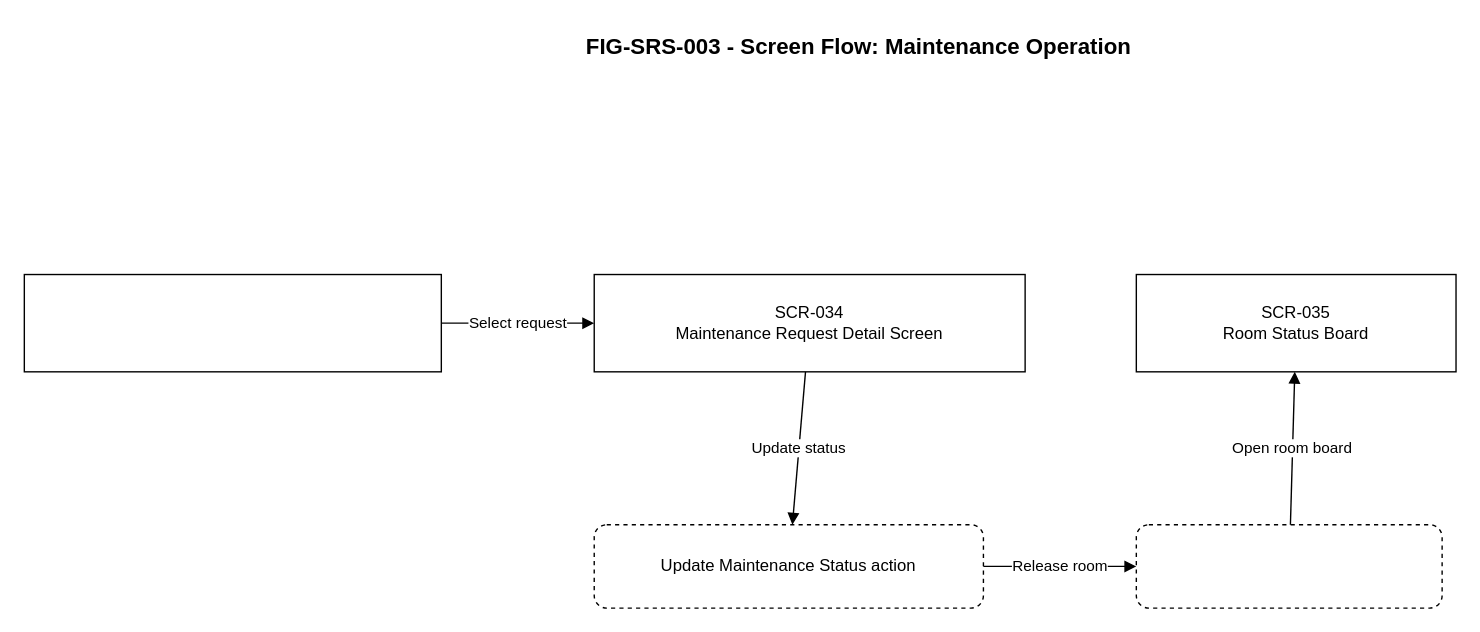
Some shapes in this 1480 by 632 pixel diagram are drawn without their labels. The box of each missing label's shape, as (x1, y1, x2, y2) in pixels:
Release Room action: (1135, 523, 1442, 608)
SCR-033 Maintenance Request List Screen: (23, 273, 441, 372)
